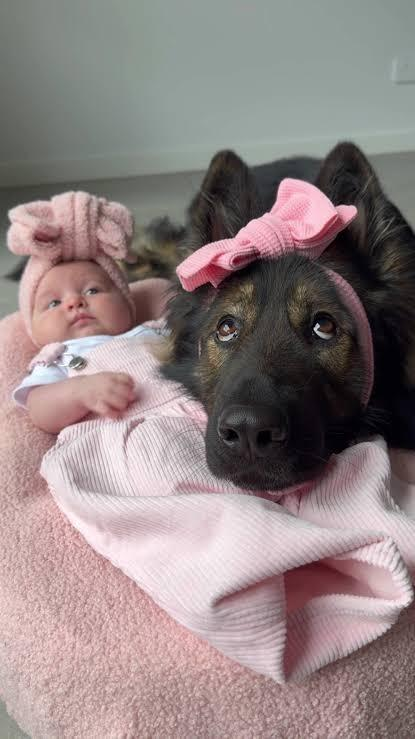adult_dog: (132, 139, 415, 497)
non-dog: (12, 241, 141, 433)
